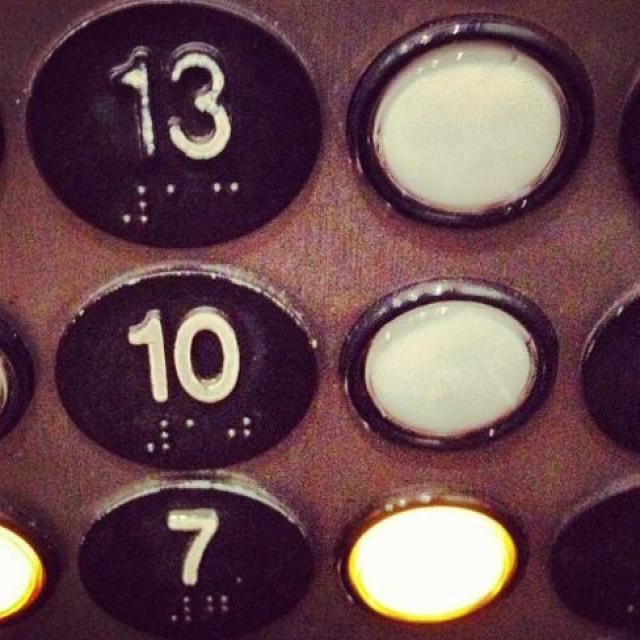10: (36, 251, 327, 473)
13: (13, 0, 333, 253)
7: (57, 471, 330, 638)
empty: (341, 3, 599, 233), (329, 266, 569, 454), (326, 475, 536, 629)
